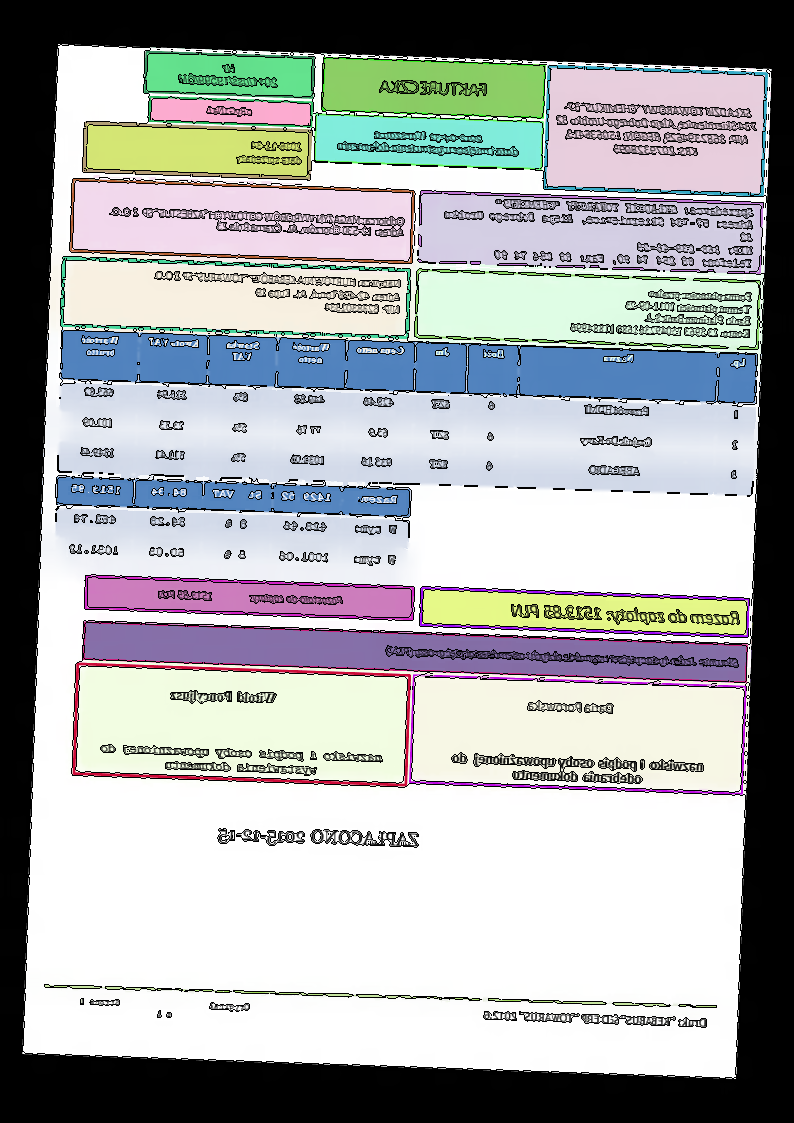Table: (56, 328, 759, 498), (52, 475, 414, 580)
TextBox: (440, 193, 757, 270), (553, 97, 760, 162), (151, 268, 403, 315), (385, 640, 742, 673), (100, 741, 387, 779), (568, 282, 756, 340), (107, 204, 406, 240), (449, 751, 708, 789), (509, 597, 744, 627), (216, 823, 424, 854), (479, 1004, 711, 1031), (334, 127, 522, 159), (75, 996, 252, 1022), (156, 586, 347, 607), (177, 58, 282, 91), (375, 76, 491, 101), (166, 685, 280, 707), (234, 138, 305, 168), (524, 694, 617, 716), (203, 102, 256, 118)
